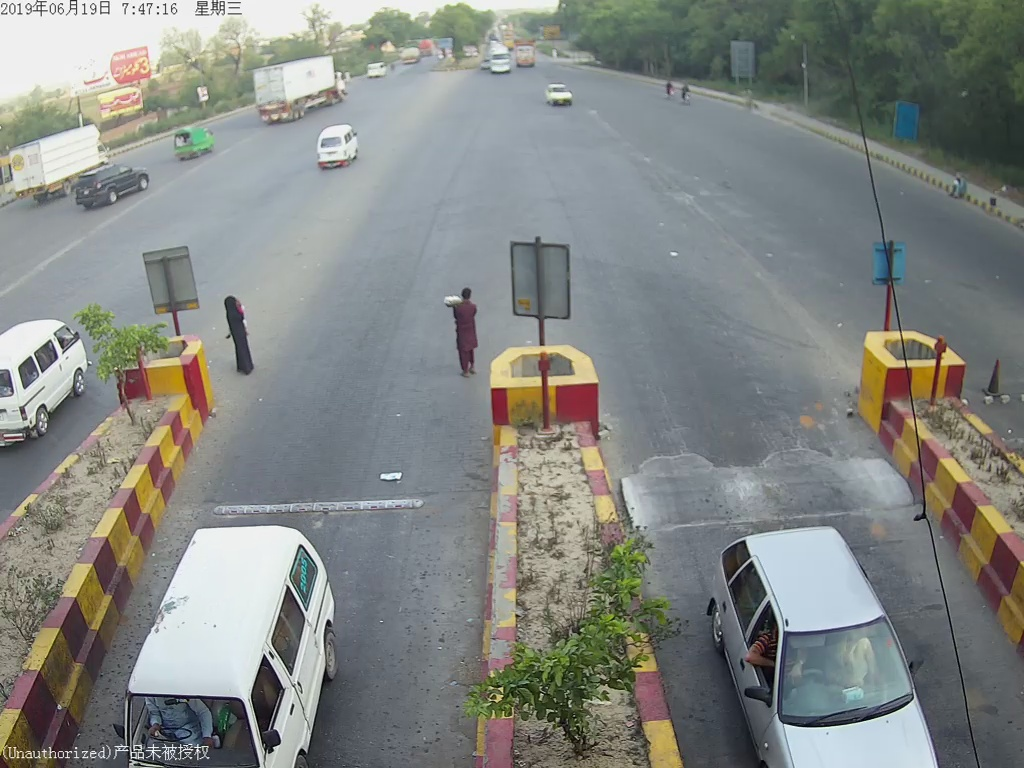Cat-1: (541, 76, 575, 111)
